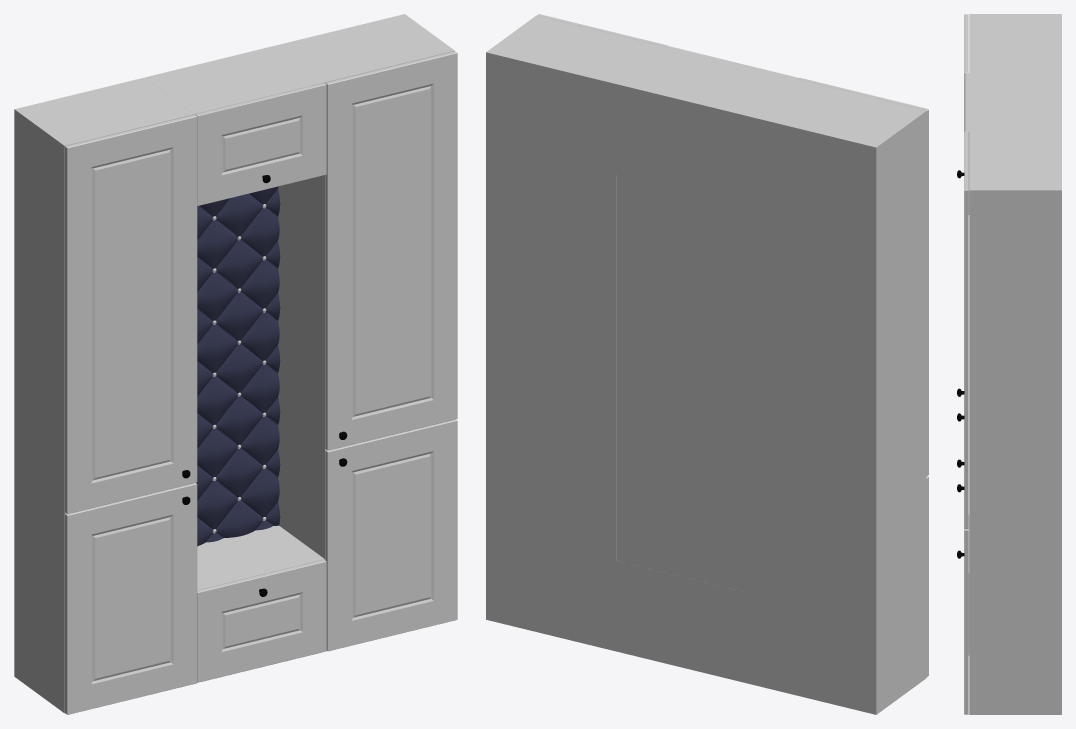
File: sf_36cf6013bae4.glb
3 views of the same model, side by side, from view 1: azimuth 30°, elevation 25°; view 2: azimuth 150°, elevation 25°; view 3: azimuth 270°, elevation 25° (orthographic). The views are drawn at different scales.
Parts seen in each view (by area): view 1: Plane_varnish_0, Plane_material_0; view 2: Plane_varnish_0; view 3: Plane_varnish_0, Plane_metal_0.
Part boxes in pixels (<box>): Plane_varnish_0: <box>14,14,457,714</box>; Plane_material_0: <box>196,186,280,546</box>; Plane_varnish_0: <box>486,14,928,714</box>; Plane_varnish_0: <box>964,14,1061,714</box>; Plane_metal_0: <box>957,170,964,558</box>.
Size of the model in its own units: 1.8 by 2.5 by 0.4529.
